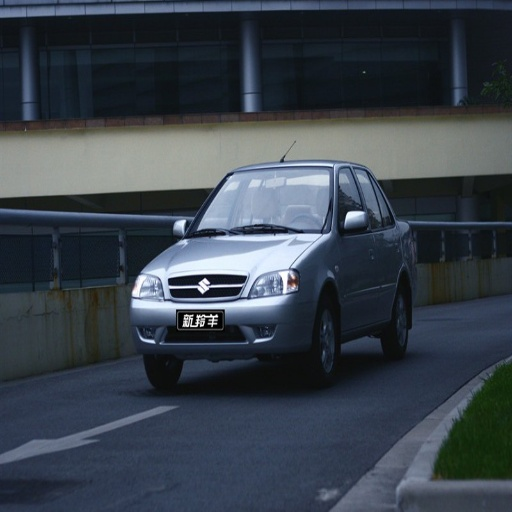front_bumper: (130, 273, 316, 355)
front_glass: (185, 168, 332, 237)
front_left_door: (336, 167, 377, 326)
